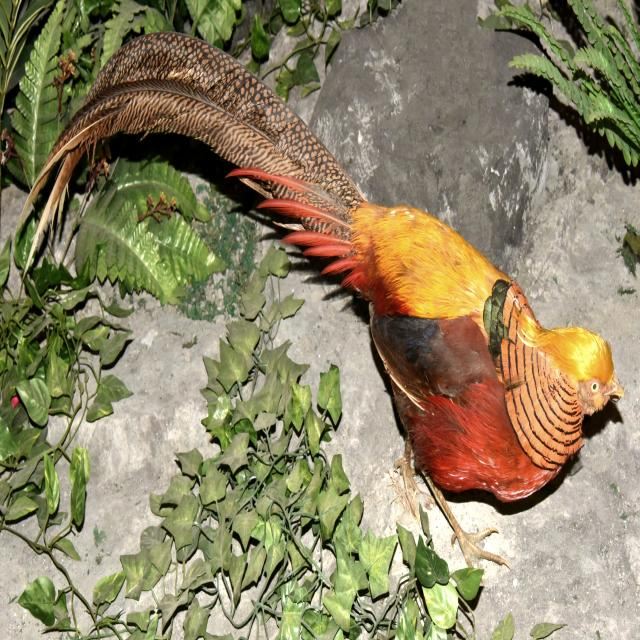Chrysolophus pictus feather: (20, 32, 368, 258)
